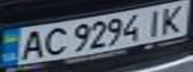2: (87, 18, 109, 50)
4: (121, 11, 148, 42)
9: (69, 20, 93, 53), (103, 16, 127, 47)
A: (15, 28, 48, 61)
C: (39, 25, 69, 57)
I: (139, 6, 169, 37)
K: (154, 1, 193, 35)
